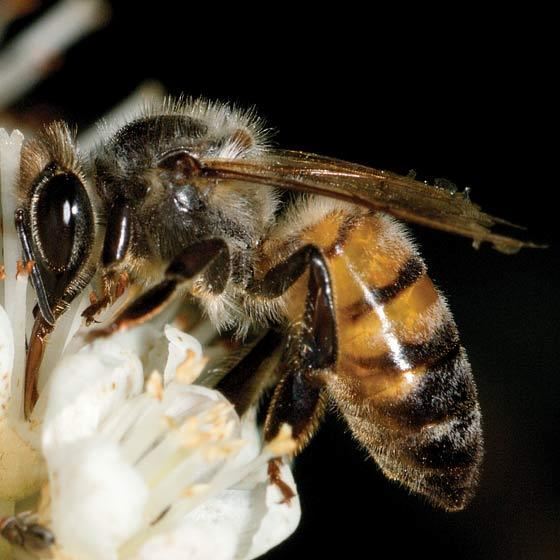Apis-mellifera-scutellata: (12, 47, 560, 523)
